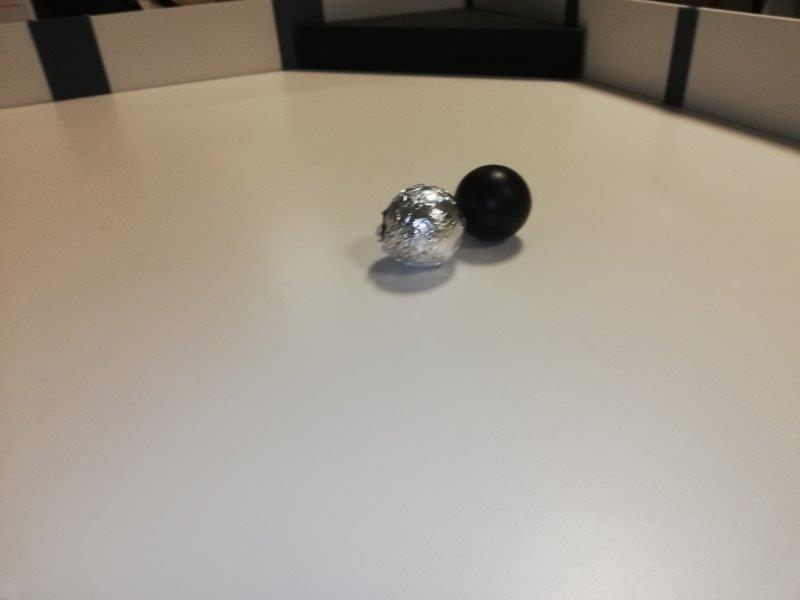bianca: (382, 182, 461, 269)
nera: (456, 166, 529, 242)
